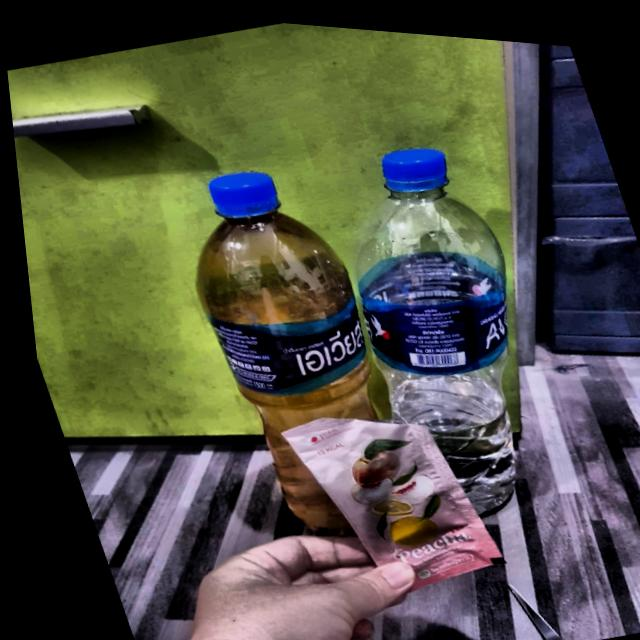Bottles: (305, 112, 604, 548), (132, 132, 420, 557)
